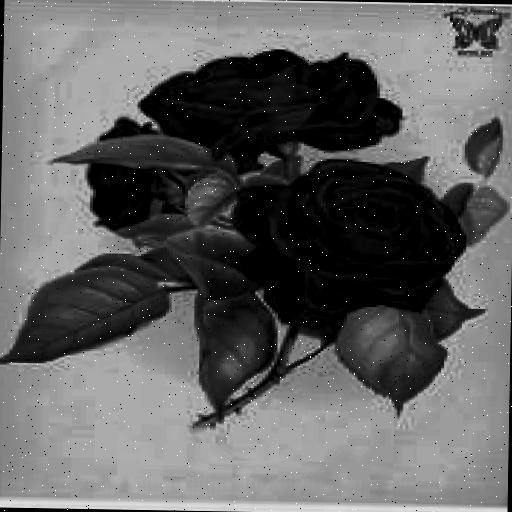rose: (226, 157, 470, 326), (140, 46, 404, 164)
